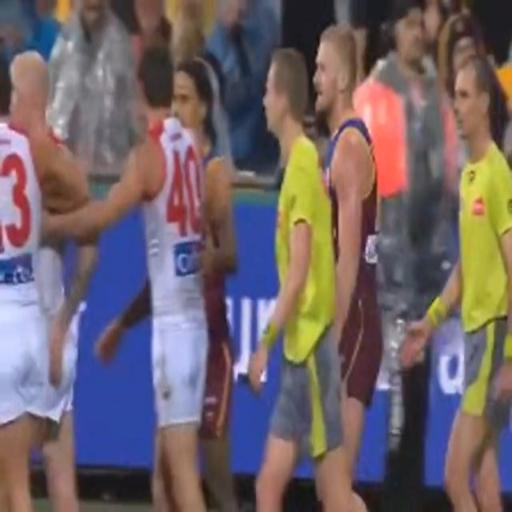nao-violencia: (0, 35, 224, 511)
